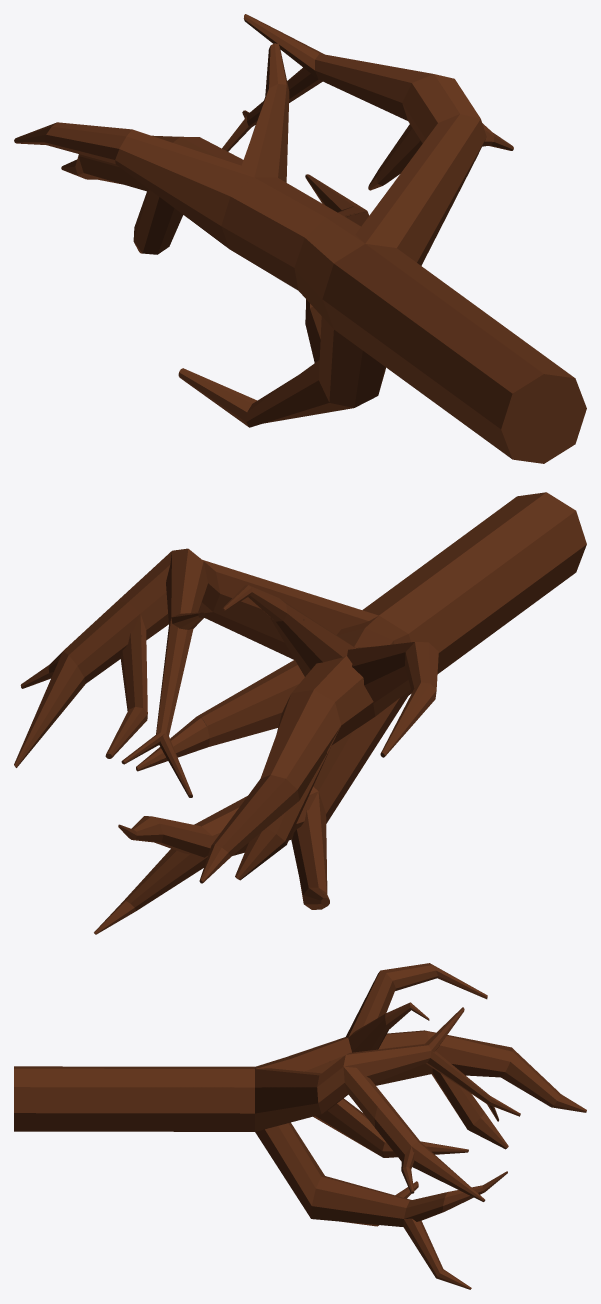
Rendered from Dead Tree.fbx.
3 views of the same model, one above another, from view 1: azimuth 30°, elevation 25°; view 2: azimuth 150°, elevation 25°; view 3: azimuth 270°, elevation 25° (orthographic). The views are drawn at different scales.
Parts seen in each view (by area): view 1: Dead Tree; view 2: Dead Tree; view 3: Dead Tree.
Part boxes in pixels (x1,y1,x2,y2): Dead Tree: [14, 14, 586, 463]; Dead Tree: [14, 492, 586, 934]; Dead Tree: [14, 963, 586, 1289].
Bounding box in the file's own units: 6.31 × 4.88 × 10.2.
1 material, 1 textured.
